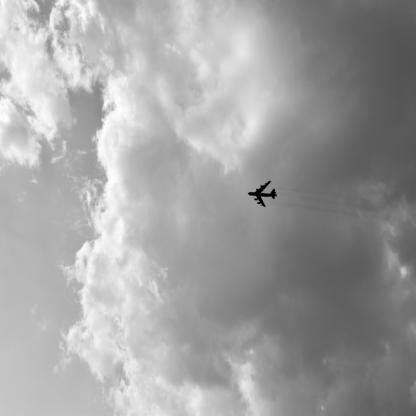B52: (249, 181, 279, 209)
